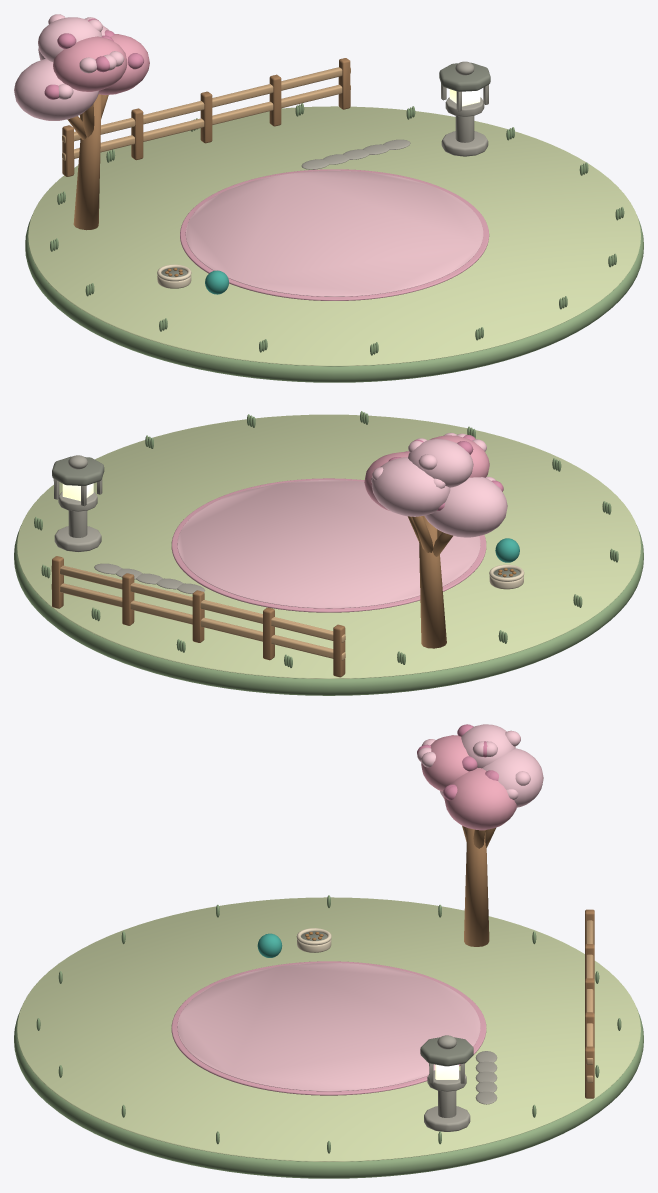
File: sakura.glb
The picture shows the model from 3 angles, top to bottom: view 1: azimuth 30°, elevation 25°; view 2: azimuth 150°, elevation 25°; view 3: azimuth 270°, elevation 25°; orthographic projection.
Visible parts, largest first — view 1: Sakura_S_grass.004, Sakura_S_rug.004, Sakura_S_edge.004, Sakura_S_wood.004, Sakura_S_pink_light.004, Sakura_S_wood_light.004, Sakura_S_pink.004, Sakura_S_stone.004, Sakura_S_rug_edge.004, Sakura_S_stone_dark.004, Sakura_S_pink_dark.004, Sakura_S_bowl.004; view 2: Sakura_S_grass.004, Sakura_S_rug.004, Sakura_S_edge.004, Sakura_S_pink_light.004, Sakura_S_wood.004, Sakura_S_wood_light.004, Sakura_S_stone.004, Sakura_S_rug_edge.004, Sakura_S_stone_dark.004, Sakura_S_pink.004, Sakura_S_bowl.004, Sakura_S_teal.004; view 3: Sakura_S_grass.004, Sakura_S_rug.004, Sakura_S_edge.004, Sakura_S_pink.004, Sakura_S_pink_light.004, Sakura_S_wood.004, Sakura_S_stone.004, Sakura_S_rug_edge.004, Sakura_S_stone_dark.004, Sakura_S_wood_light.004, Sakura_S_pink_dark.004.
Boxes of the visible parts, x1=… form: Sakura_S_grass.004: x1=28, y1=106, x2=640, y2=366; Sakura_S_rug.004: x1=185, y1=170, x2=483, y2=296; Sakura_S_edge.004: x1=25, y1=103, x2=643, y2=382; Sakura_S_wood.004: x1=62, y1=58, x2=350, y2=230; Sakura_S_pink_light.004: x1=14, y1=14, x2=124, y2=120; Sakura_S_wood_light.004: x1=62, y1=67, x2=350, y2=160; Sakura_S_pink.004: x1=53, y1=34, x2=149, y2=95; Sakura_S_stone.004: x1=301, y1=61, x2=488, y2=169; Sakura_S_rug_edge.004: x1=180, y1=169, x2=489, y2=300; Sakura_S_stone_dark.004: x1=161, y1=62, x2=490, y2=277; Sakura_S_pink_dark.004: x1=44, y1=18, x2=143, y2=99; Sakura_S_bowl.004: x1=157, y1=264, x2=191, y2=288; Sakura_S_grass.004: x1=17, y1=414, x2=640, y2=678; Sakura_S_rug.004: x1=177, y1=480, x2=480, y2=608; Sakura_S_edge.004: x1=14, y1=411, x2=643, y2=695; Sakura_S_pink_light.004: x1=371, y1=432, x2=507, y2=537; Sakura_S_wood.004: x1=52, y1=516, x2=452, y2=677; Sakura_S_wood_light.004: x1=51, y1=565, x2=345, y2=660; Sakura_S_stone.004: x1=53, y1=455, x2=204, y2=593; Sakura_S_rug_edge.004: x1=171, y1=478, x2=486, y2=612; Sakura_S_stone_dark.004: x1=52, y1=456, x2=519, y2=577; Sakura_S_pink.004: x1=364, y1=435, x2=489, y2=510; Sakura_S_bowl.004: x1=489, y1=564, x2=524, y2=589; Sakura_S_teal.004: x1=495, y1=538, x2=519, y2=562; Sakura_S_grass.004: x1=17, y1=897, x2=640, y2=1161; Sakura_S_rug.004: x1=177, y1=963, x2=480, y2=1091; Sakura_S_edge.004: x1=14, y1=895, x2=643, y2=1178; Sakura_S_pink.004: x1=421, y1=735, x2=516, y2=830; Sakura_S_pink_light.004: x1=417, y1=724, x2=543, y2=807; Sakura_S_wood.004: x1=462, y1=826, x2=594, y2=1098; Sakura_S_stone.004: x1=424, y1=1035, x2=497, y2=1131; Sakura_S_rug_edge.004: x1=171, y1=961, x2=486, y2=1095; Sakura_S_stone_dark.004: x1=301, y1=931, x2=473, y2=1066; Sakura_S_wood_light.004: x1=586, y1=920, x2=593, y2=1082; Sakura_S_pink_dark.004: x1=417, y1=724, x2=498, y2=800.
Bounding box in the file's own units: 6.4 × 2.54 × 6.4.
